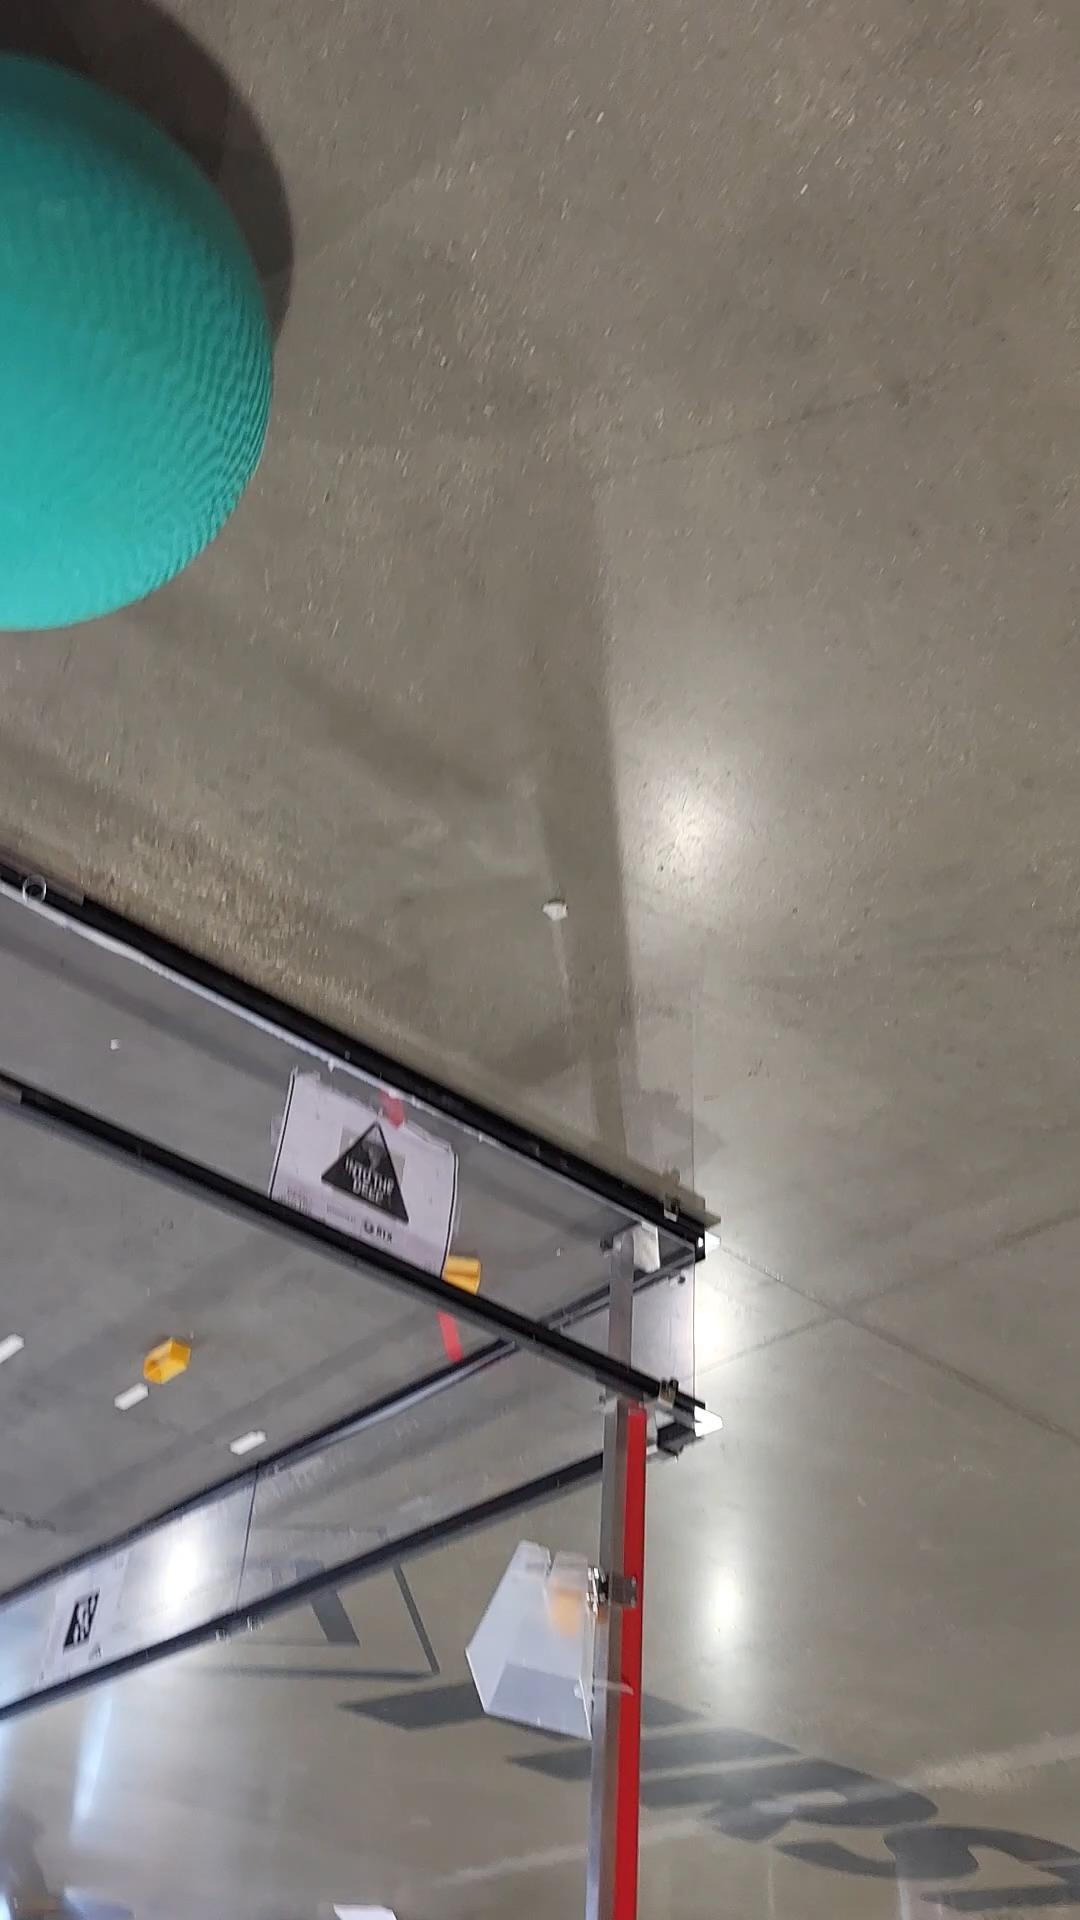algae: (0, 37, 284, 640)
